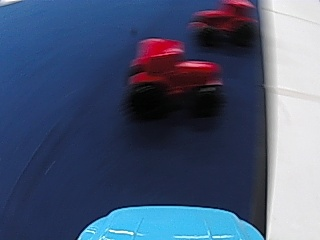tractor: (123, 32, 221, 117), (187, 2, 257, 48)
